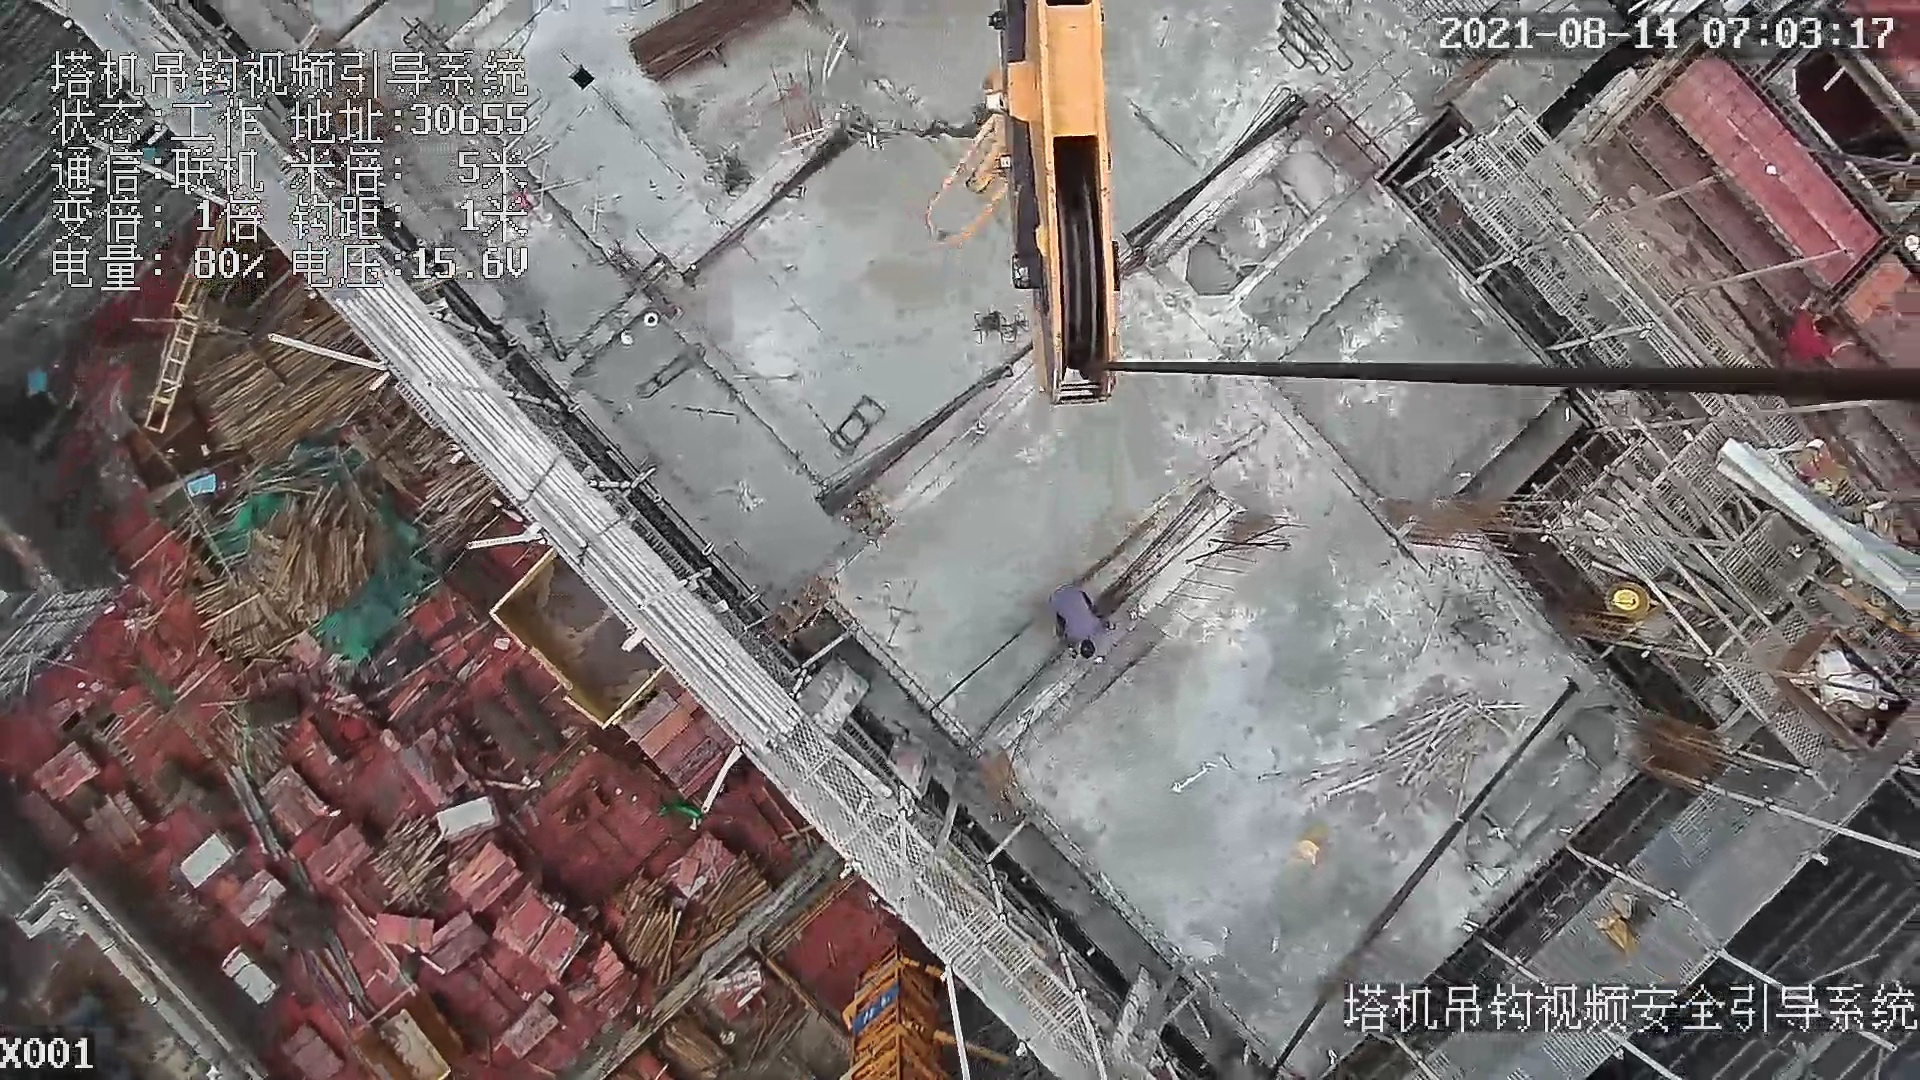hook: (922, 9, 1133, 410)
person: (1049, 583, 1108, 660)
slogan: (851, 980, 896, 1023)
